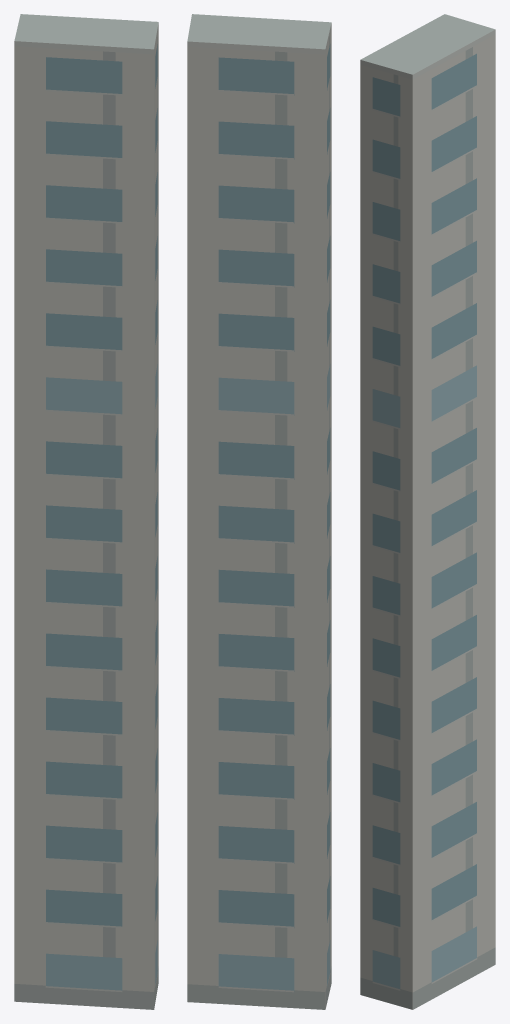
Rendered from survey-upis-32729742.glb.
3 views of the same model, side by side, from view 1: azimuth 30°, elevation 25°; view 2: azimuth 210°, elevation 25°; view 3: azimuth 270°, elevation 25° (orthographic). The views are drawn at different scales.
Visible parts, largest first — view 1: survey-upis-32729742.tmp; view 2: survey-upis-32729742.tmp; view 3: survey-upis-32729742.tmp.
Boxes of the visible parts, x1,y1,x2,y2 form: survey-upis-32729742.tmp: (14,14,158,1009); survey-upis-32729742.tmp: (187,14,331,1009); survey-upis-32729742.tmp: (360,14,495,1009).
Size of the model in its own units: 6.38 by 45.75 by 6.01.
